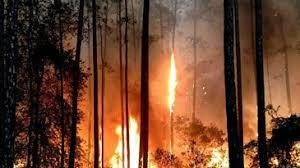fire: (108, 111, 144, 166), (166, 49, 178, 112), (202, 143, 229, 166)
